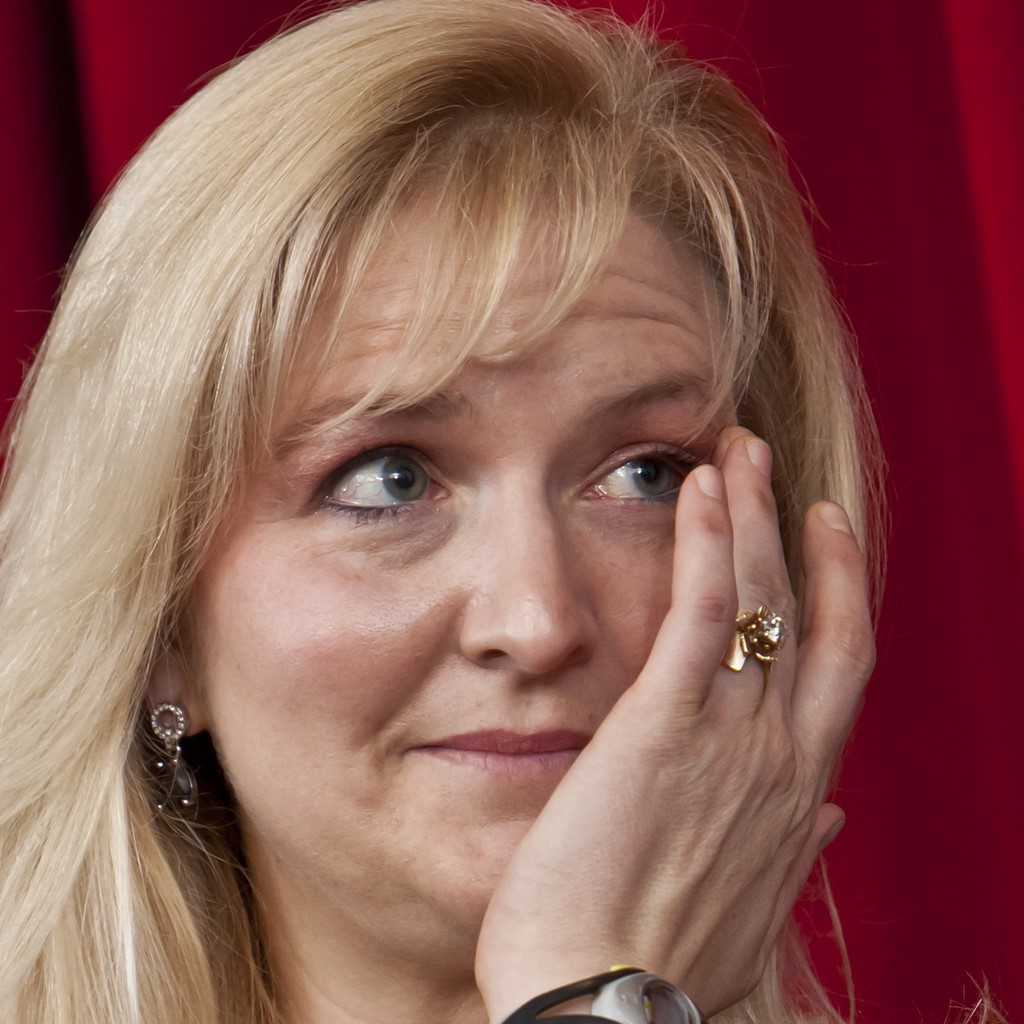sin_mascara: (208, 129, 769, 964)
